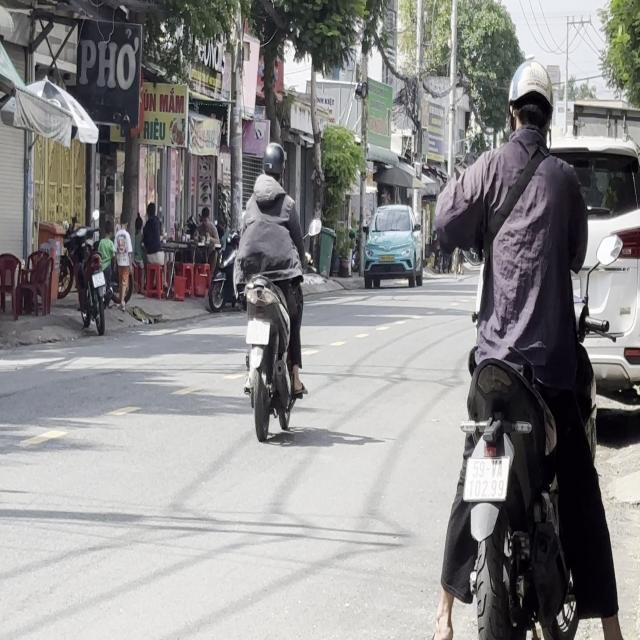helmet: (506, 58, 556, 141), (261, 141, 285, 183)
licenseplate: (434, 55, 625, 634), (234, 137, 310, 438)
nohelmet: (464, 456, 508, 500), (246, 319, 270, 345)
